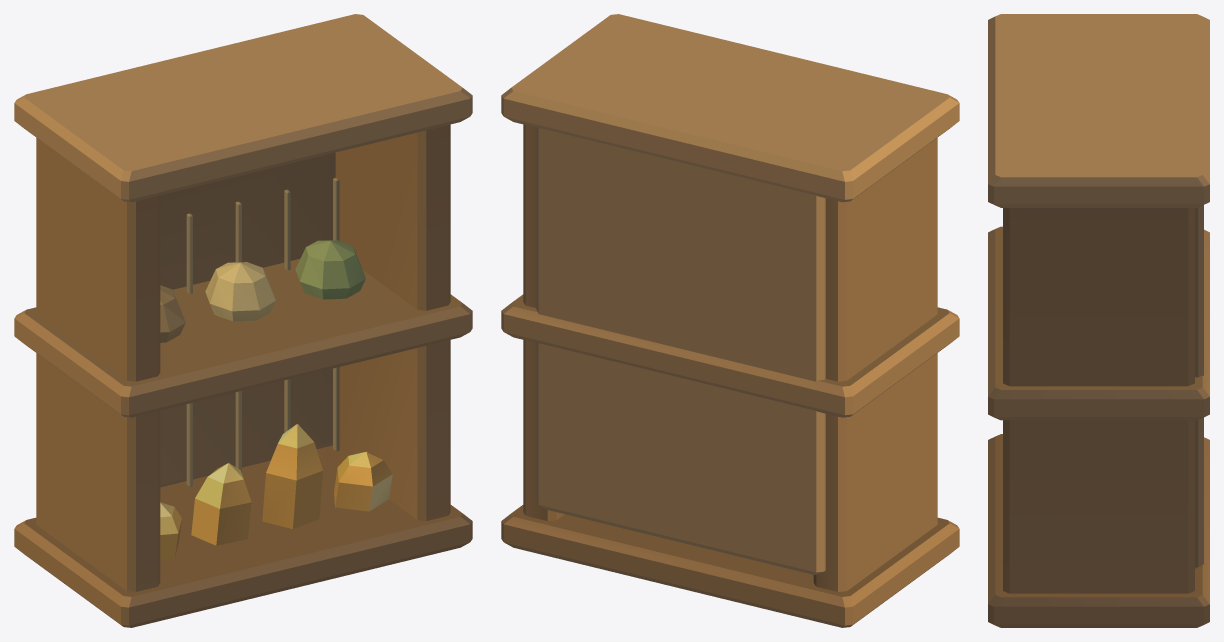
File: furniture_bernsteinvitrine.glb
3 renders of one model, left to right at view 1: azimuth 30°, elevation 25°; view 2: azimuth 150°, elevation 25°; view 3: azimuth 270°, elevation 25°, orthographic.
Visible parts, largest first — view 1: furniture_bernsteinvitrine; view 2: furniture_bernsteinvitrine; view 3: furniture_bernsteinvitrine.
Part boxes in pixels (x1,y1,x2,y2): furniture_bernsteinvitrine: [14, 14, 472, 627]; furniture_bernsteinvitrine: [501, 14, 959, 627]; furniture_bernsteinvitrine: [988, 14, 1209, 627].
Bounding box in the file's own units: 1.21 × 1.5 × 0.67.
